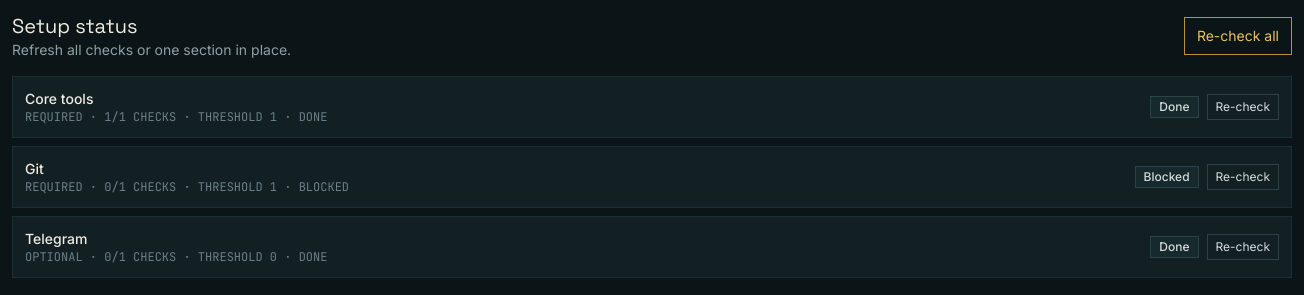
it: Settings re-check controls › AC-18 loading states prevent contradictory double actions
The width and height of the screenshot is (1304, 295).
Click the button "Re-check all". click: [1238, 36]
box: [1184, 17, 1292, 55]
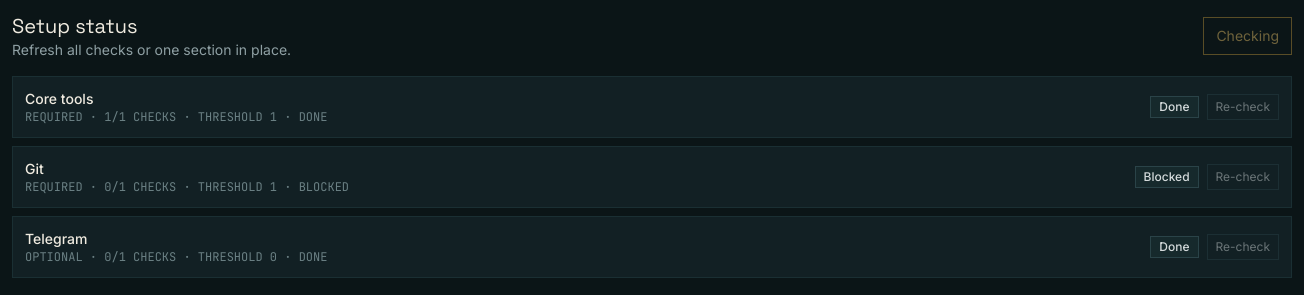
Now the button "Checking" is disabled, box [1203, 17, 1292, 55]
Now the button "Re-check" in the row of "Core tools" is disabled, box [1206, 94, 1279, 120]
